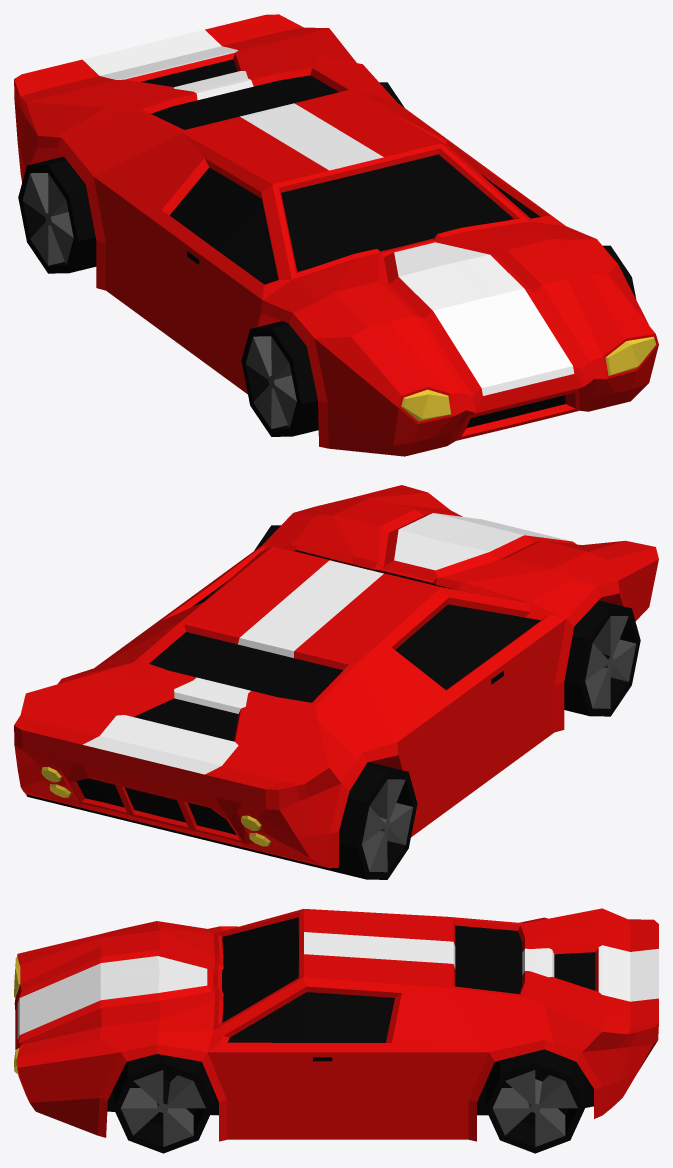
Rendered from cocheBase.fbx.
3 views of the same model, one above another, from view 1: azimuth 30°, elevation 25°; view 2: azimuth 150°, elevation 25°; view 3: azimuth 270°, elevation 25° (orthographic). The views are drawn at different scales.
Parts seen in each view (by area): view 1: Cube, Vidrios, Ruedas, Luces; view 2: Cube, Ruedas, Vidrios, Luces; view 3: Cube, Ruedas, Vidrios.
Boxes of the visible parts, x1=… form: Cube: x1=14, y1=14, x2=658, y2=456; Vidrios: x1=151, y1=75, x2=540, y2=284; Ruedas: x1=18, y1=82, x2=636, y2=436; Luces: x1=401, y1=336, x2=656, y2=421; Cube: x1=14, y1=485, x2=658, y2=868; Ruedas: x1=26, y1=525, x2=640, y2=879; Vidrios: x1=149, y1=550, x2=540, y2=702; Luces: x1=41, y1=767, x2=270, y2=846; Cube: x1=14, y1=908, x2=658, y2=1141; Ruedas: x1=113, y1=1049, x2=584, y2=1153; Vidrios: x1=222, y1=917, x2=522, y2=1042.
Size of the model in its own units: 132 by 63.09 by 261.
